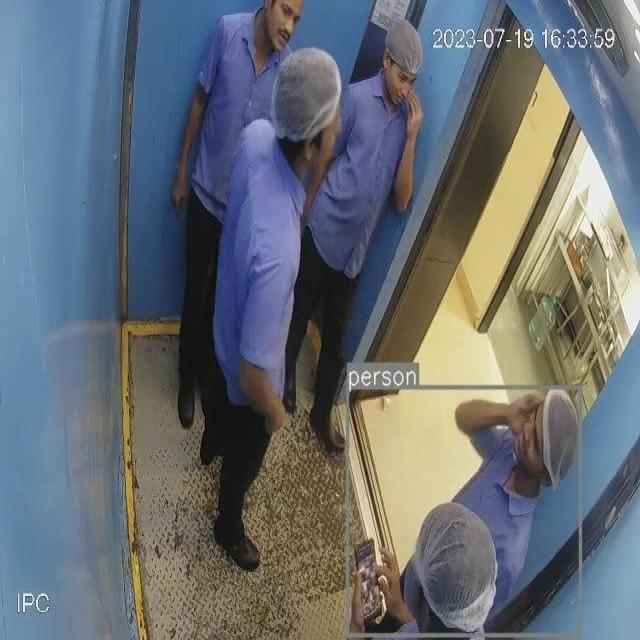person: (200, 50, 341, 578), (177, 1, 309, 438), (351, 391, 579, 633), (303, 23, 424, 456)
